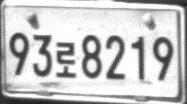1: (129, 34, 145, 82)
2: (105, 34, 125, 80)
3: (32, 34, 52, 77)
8: (80, 34, 102, 79)
9: (152, 35, 174, 82), (9, 32, 29, 76)
로: (54, 41, 76, 79)
